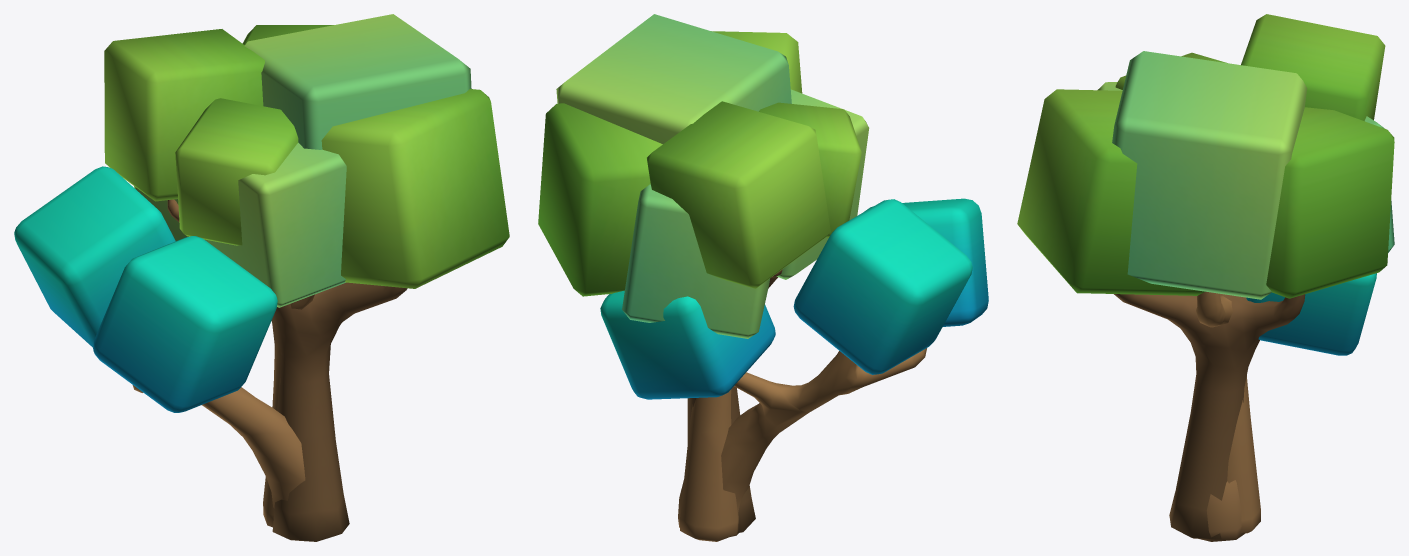
The model's file is treepack.glb.
3 renders of one model, left to right at view 1: azimuth 30°, elevation 25°; view 2: azimuth 150°, elevation 25°; view 3: azimuth 270°, elevation 25°, orthographic. The views are drawn at different scales.
Visible parts, largest first — view 1: tree_1, tree_2, tree_0; view 2: tree_1, tree_2, tree_0; view 3: tree_1, tree_0, tree_2.
Boxes of the visible parts, x1,y1,x2,y2 form: tree_1: [104, 25, 509, 541]; tree_2: [14, 166, 305, 540]; tree_0: [134, 14, 471, 527]; tree_1: [538, 31, 861, 532]; tree_2: [600, 198, 988, 536]; tree_0: [556, 14, 869, 541]; tree_1: [1017, 14, 1394, 539]; tree_0: [1097, 51, 1394, 533]; tree_2: [1198, 273, 1376, 541].
Bounding box in the file's own units: 0.4133 × 0.4751 × 0.3481.
3 materials, 3 textured.
